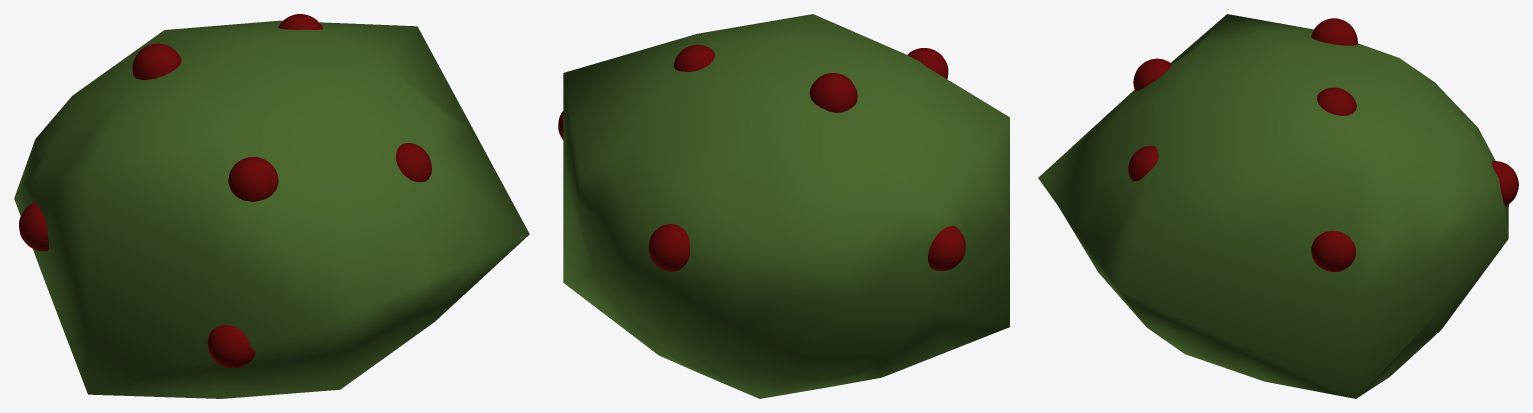
File: Bush.dae
3 views of the same model, side by side, from view 1: azimuth 30°, elevation 25°; view 2: azimuth 150°, elevation 25°; view 3: azimuth 270°, elevation 25° (orthographic). The views are drawn at different scales.
Parts seen in each view (by area): view 1: pasted__pasted__pasted__pasted__pasted__pPlatonic1, pasted__pSphere2, pasted__pasted__pSphere2_ncl1_2, pSphere2, pasted__pasted__pSphere2, pasted__pSphere2_ncl1_2, pasted__pasted__pSphere2_ncl1_1; view 2: pasted__pasted__pasted__pasted__pasted__pPlatonic1, pasted__pasted__pasted__pSphere2, pSphere2, pasted__pSphere2_ncl1_2, pasted__pasted__pSphere2_ncl1_1, pasted__pSphere2; view 3: pasted__pasted__pasted__pasted__pasted__pPlatonic1, pasted__pSphere2_ncl1_1, pSphere2, pasted__pasted__pSphere2_ncl1_1, pasted__pasted__pSphere2, pasted__pSphere2, pasted__pasted__pasted__pSphere2.
Part boxes in pixels (bbox=[...]): pasted__pasted__pasted__pasted__pasted__pPlatonic1: bbox=[14, 20, 529, 398]; pasted__pSphere2: bbox=[228, 157, 278, 201]; pasted__pasted__pSphere2_ncl1_2: bbox=[207, 325, 255, 368]; pSphere2: bbox=[132, 43, 181, 79]; pasted__pasted__pSphere2: bbox=[396, 143, 431, 182]; pasted__pSphere2_ncl1_2: bbox=[19, 202, 48, 251]; pasted__pasted__pSphere2_ncl1_1: bbox=[278, 14, 323, 29]; pasted__pasted__pasted__pasted__pasted__pPlatonic1: bbox=[563, 14, 1009, 398]; pasted__pasted__pasted__pSphere2: bbox=[648, 224, 690, 271]; pSphere2: bbox=[809, 73, 857, 112]; pasted__pSphere2_ncl1_2: bbox=[928, 226, 965, 270]; pasted__pasted__pSphere2_ncl1_1: bbox=[673, 44, 714, 71]; pasted__pSphere2: bbox=[907, 48, 948, 78]; pasted__pasted__pasted__pasted__pasted__pPlatonic1: bbox=[1038, 14, 1508, 398]; pasted__pSphere2_ncl1_1: bbox=[1311, 230, 1355, 271]; pSphere2: bbox=[1311, 18, 1357, 45]; pasted__pasted__pSphere2_ncl1_1: bbox=[1317, 87, 1356, 115]; pasted__pasted__pSphere2: bbox=[1128, 145, 1158, 181]; pasted__pSphere2: bbox=[1133, 58, 1171, 90]; pasted__pasted__pasted__pSphere2: bbox=[1491, 161, 1518, 205].
Size of the model in its own units: 3.65 by 2.75 by 3.89.
